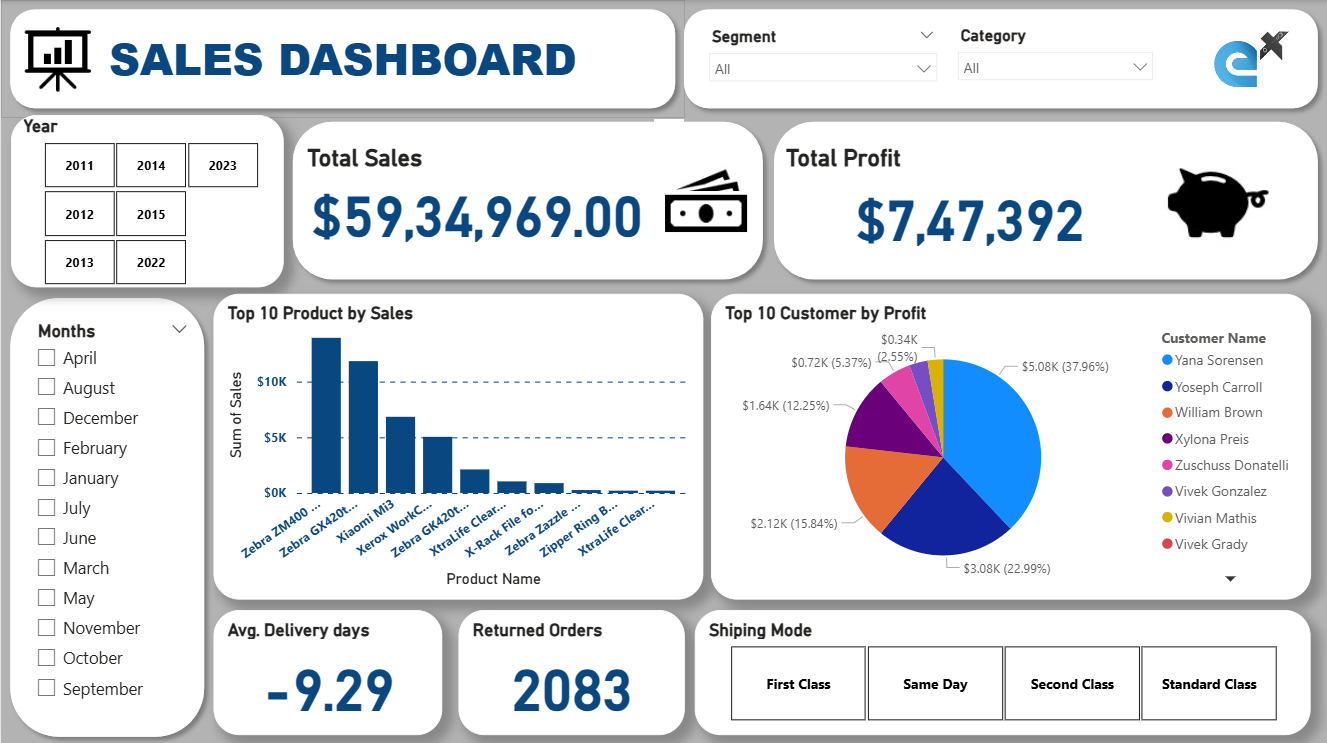

The page's visual inventory and layout, read from the dashboard file:
{"tool":"powerbi","page":{"name":"Home","canvas":[1280,720],"ordinal":0},"visuals":[{"type":"shape","title":"SALES DASHBOARD","box":[0,0,659.7,113.4],"z":0},{"type":"image","box":[9.6,9.6,90.5,94.1],"z":1000},{"type":"shape","title":"SALES DASHBOARD","box":[650.1,0,629.5,113.4],"z":2000},{"type":"slicer","title":"Segment","fields":{"Values":["Orders.Segment"]},"box":[673,21.7,240,68.7],"z":3000},{"type":"slicer","title":"Catorgy","fields":{"Values":["Orders.Category"]},"box":[913,20.5,208.6,69.9],"z":4000},{"type":"image","box":[1155.4,12.1,108.5,85.6],"z":5000},{"type":"shape","box":[0,278.6,205,441.4],"z":6000},{"type":"slicer","title":"Months","fields":{"Values":["Orders.Custom"]},"box":[27.7,303.9,159.2,392],"z":7000},{"type":"slicer","title":"Year","fields":{"Values":["Orders.Year"]},"box":[9.6,111,262.9,166.4],"z":8000},{"type":"shape","box":[272.6,108.5,471.6,170.1],"z":9000},{"type":"card","title":"Total Sales","fields":{"Values":["Sum(Orders.Sales)"]},"box":[295.5,138.7,328,96.5],"z":10000},{"type":"image","box":[623.5,147.1,113.4,96.5],"z":11000},{"type":"shape","box":[736.9,108.5,542.7,170.1],"z":12000},{"type":"card","title":"Total Profit","fields":{"Values":["Sum(Orders.Profit)"]},"box":[757.4,138.7,355.8,104.9],"z":13000},{"type":"image","box":[1113.2,139.9,119.4,111],"z":14000},{"type":"columnChart","title":"Top 10 Product by Sales","fields":{"Category":["Orders.Product Name"],"Y":["Sum(Orders.Sales)"]},"box":[205,283.4,472.8,295.5],"z":15000},{"type":"pieChart","title":"Top 10 Customer by Profit","fields":{"Category":["Orders.Customer Name"],"Y":["Sum(Orders.Profit)"]},"box":[685,283.4,578.9,295.5],"z":16000},{"type":"card","title":"Avg. Delivery days","fields":{"Values":["Avg(Orders.Delivery Days)"]},"box":[205,588.5,220.7,120.6],"z":17000},{"type":"card","title":"Returned Orders","fields":{"Values":["CountNonNull(Returns.Order ID)"]},"box":[441.4,588.5,218.3,120.6],"z":18000},{"type":"slicer","title":"Shiping Mode","fields":{"Values":["Orders.Ship Mode"]},"box":[669.3,588.5,594.6,120.6],"z":19000}]}

Visuals, with their boxes in screenshot pixels (x1, y1, x2, y2), scaled from the page's 1280x720 canvas onto the 1327x743 screenshot:
"SALES DASHBOARD" shape: {"left": 0, "top": 0, "right": 684, "bottom": 117}
image: {"left": 10, "top": 10, "right": 104, "bottom": 107}
"SALES DASHBOARD" shape: {"left": 674, "top": 0, "right": 1326, "bottom": 117}
"Segment" slicer: {"left": 698, "top": 22, "right": 947, "bottom": 93}
"Catorgy" slicer: {"left": 947, "top": 21, "right": 1163, "bottom": 93}
image: {"left": 1198, "top": 12, "right": 1310, "bottom": 101}
shape: {"left": 0, "top": 287, "right": 213, "bottom": 742}
"Months" slicer: {"left": 29, "top": 314, "right": 194, "bottom": 718}
"Year" slicer: {"left": 10, "top": 115, "right": 283, "bottom": 286}
shape: {"left": 283, "top": 112, "right": 772, "bottom": 287}
"Total Sales" card: {"left": 306, "top": 143, "right": 646, "bottom": 243}
image: {"left": 646, "top": 152, "right": 764, "bottom": 251}
shape: {"left": 764, "top": 112, "right": 1326, "bottom": 287}
"Total Profit" card: {"left": 785, "top": 143, "right": 1154, "bottom": 251}
image: {"left": 1154, "top": 144, "right": 1278, "bottom": 259}
"Top 10 Product by Sales" columnChart: {"left": 213, "top": 292, "right": 703, "bottom": 597}
"Top 10 Customer by Profit" pieChart: {"left": 710, "top": 292, "right": 1310, "bottom": 597}
"Avg. Delivery days" card: {"left": 213, "top": 607, "right": 441, "bottom": 732}
"Returned Orders" card: {"left": 458, "top": 607, "right": 684, "bottom": 732}
"Shiping Mode" slicer: {"left": 694, "top": 607, "right": 1310, "bottom": 732}
